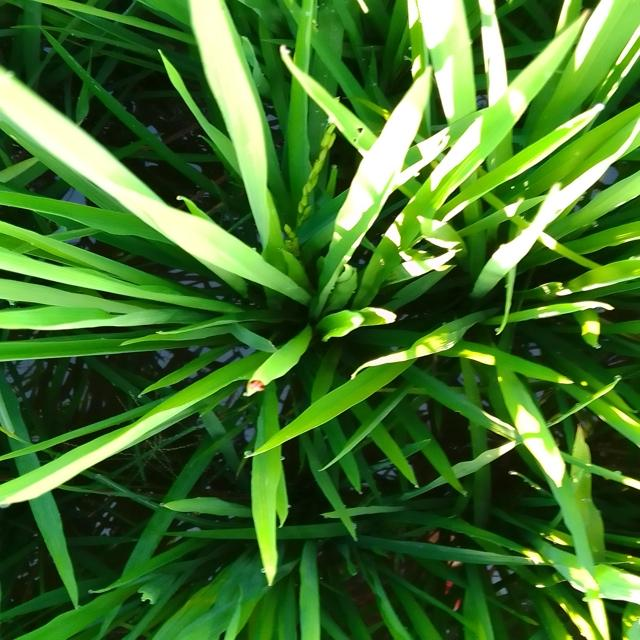Brown spot: (236, 375, 277, 408)
